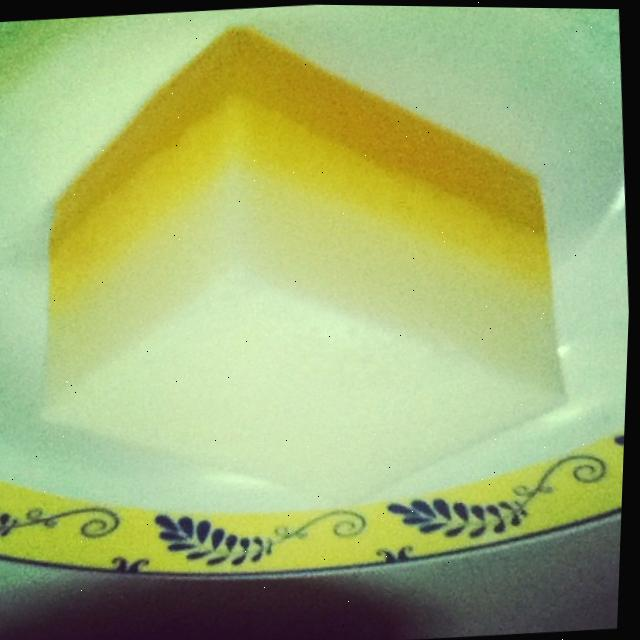蛋糕甜品: (0, 0, 640, 595)
